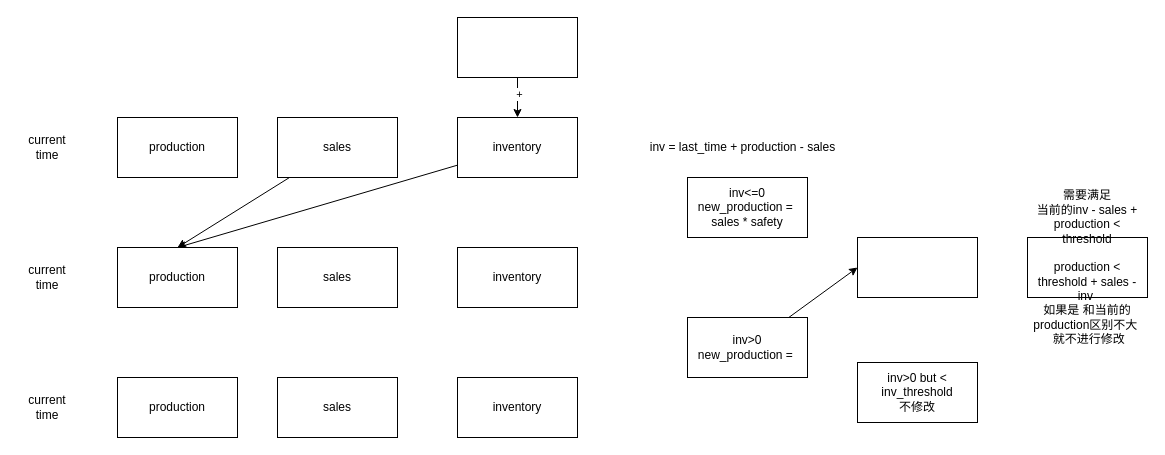
Some shapes in this 1165 by 455 pixel diagram are drawn without their labels. The shapes that lost their labels are listed below. From the top down, each one's centre as x and y in pixels, then its label:
At point (517, 47): "last time inventory".
At point (917, 267): "inv> inv_threshold 如果大于一定的数量才做出修改".
